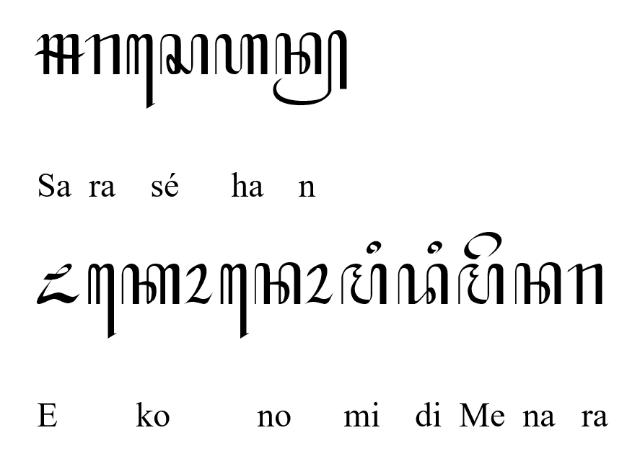-n: (272, 29, 348, 107)
E: (36, 263, 80, 305)
d: (398, 264, 450, 306)
e: (462, 232, 502, 260)
e1: (87, 264, 117, 340), (220, 262, 248, 340), (127, 33, 155, 109)
h: (214, 34, 268, 74)
i: (366, 240, 382, 256), (427, 240, 443, 256)
k: (121, 264, 181, 306)
m: (342, 263, 388, 305), (458, 263, 504, 305)
n: (253, 261, 300, 305), (514, 263, 562, 305)
o: (304, 263, 334, 305), (183, 264, 213, 305)
r: (567, 264, 605, 306), (85, 34, 121, 76)
s: (34, 34, 86, 74), (160, 33, 208, 75)
